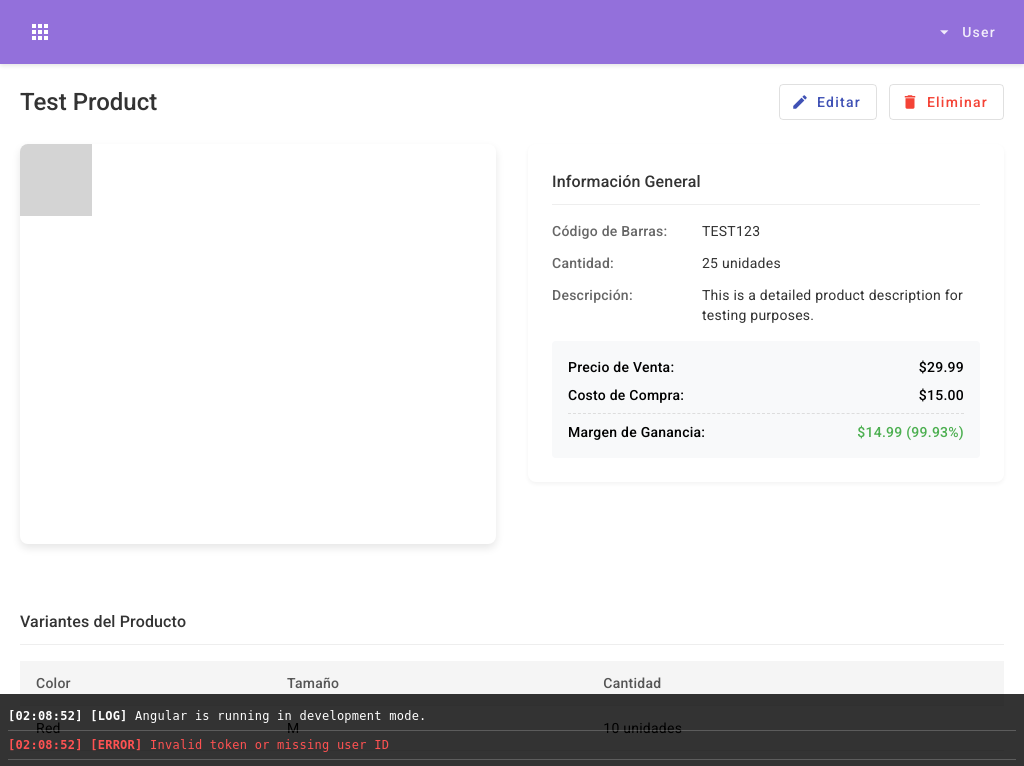
Test: Product Detail Component › should show confirmation dialog when deleting a product
// Click on delete button
Step 1. Click the button "Eliminar" → (947,102), box 889,84 -> 1004,120
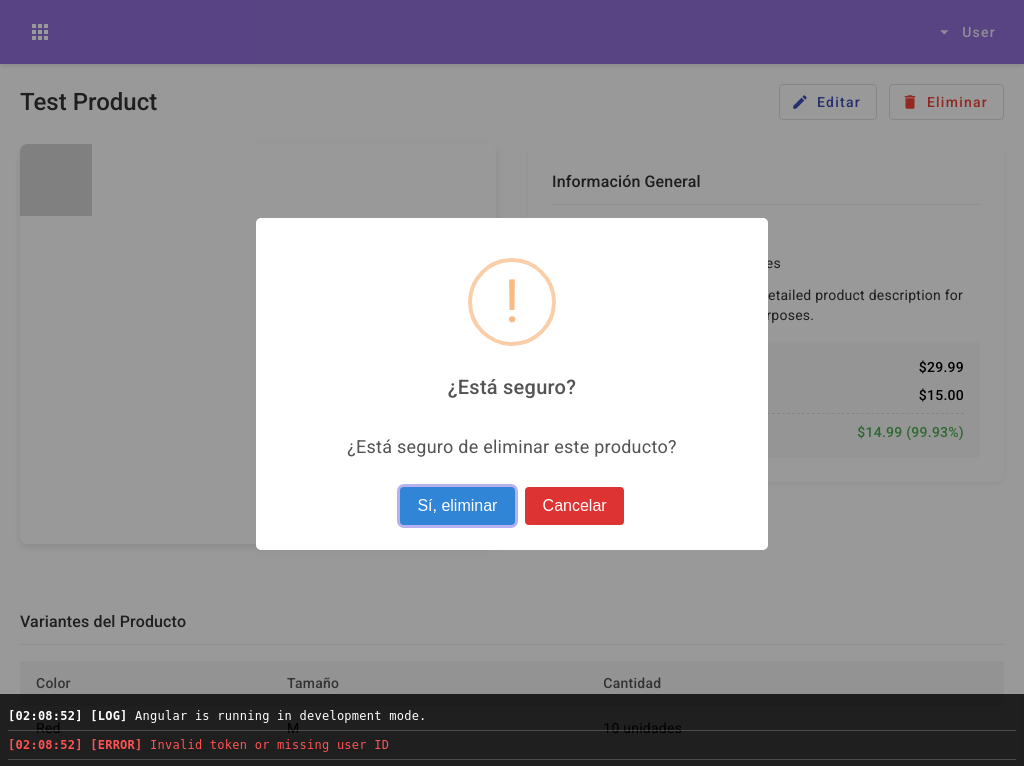
Expected: the dialog with class "swal2-popup" is shown, 256,218 -> 768,551
Expected: the heading with class "swal2-title" reads "¿Está seguro?", 448,375 -> 576,399
// Confirm deletion
Step 2. Click the button with class "swal2-confirm" → (458,507), box 400,488 -> 515,526
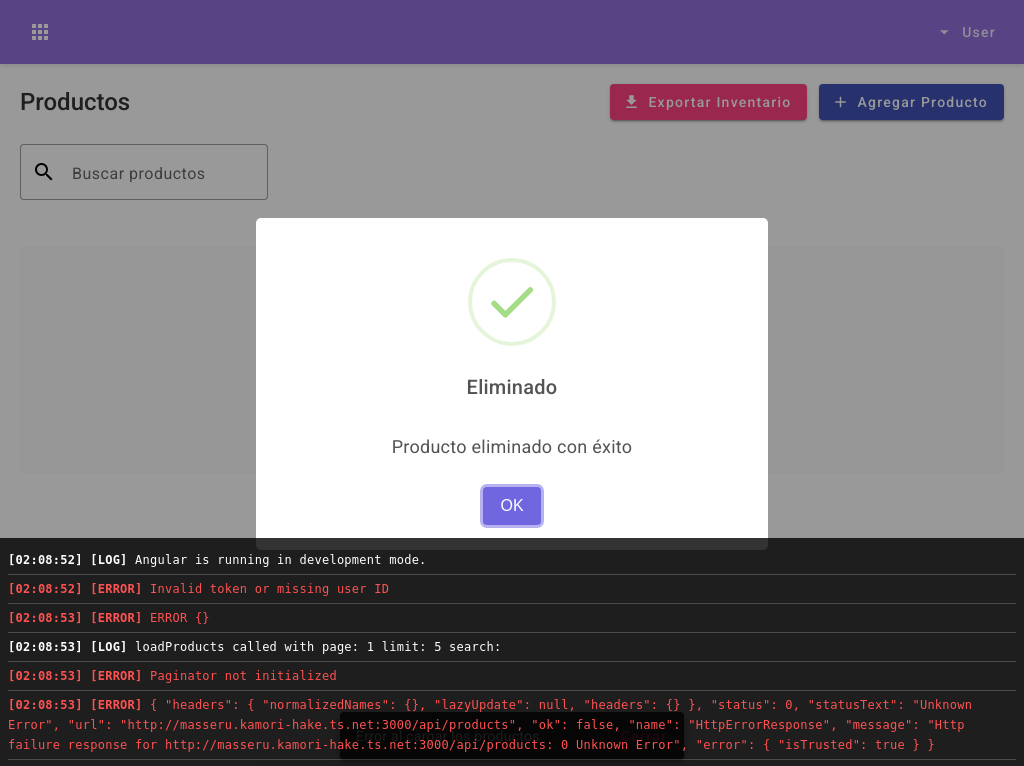
Expected: the dialog with class "swal2-popup" is shown, 256,218 -> 768,551
Expected: the heading with class "swal2-title" reads "Eliminado", 467,375 -> 558,399
